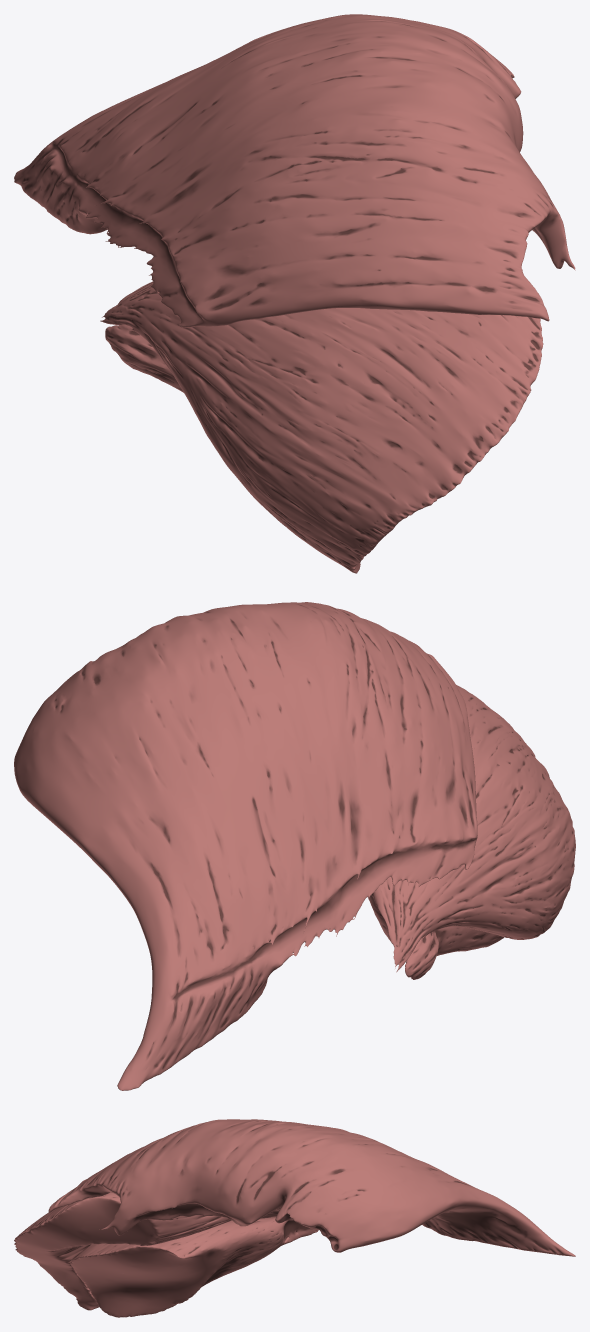
File: gluteal.38d9eaf538.glb
3 renders of one model, top to bottom at view 1: azimuth 30°, elevation 25°; view 2: azimuth 150°, elevation 25°; view 3: azimuth 270°, elevation 25°, orthographic. The views are drawn at different scales.
Visible parts, largest first — view 1: FMA22328, FMA22330, FMA22332; view 2: FMA22328, FMA22330, FMA22332; view 3: FMA22328, FMA22332, FMA22330.
Part boxes in pixels (x1=…): FMA22328: x1=14, y1=14, x2=575, y2=327; FMA22330: x1=100, y1=281, x2=543, y2=573; FMA22332: x1=105, y1=325, x2=183, y2=392; FMA22328: x1=14, y1=602, x2=477, y2=1090; FMA22330: x1=371, y1=685, x2=575, y2=972; FMA22332: x1=368, y1=895, x2=503, y2=979; FMA22328: x1=48, y1=1119, x2=575, y2=1256; FMA22332: x1=70, y1=1216, x2=318, y2=1317; FMA22330: x1=14, y1=1192, x2=281, y2=1310.
Bounding box in the file's own units: 143 × 129 × 277.
